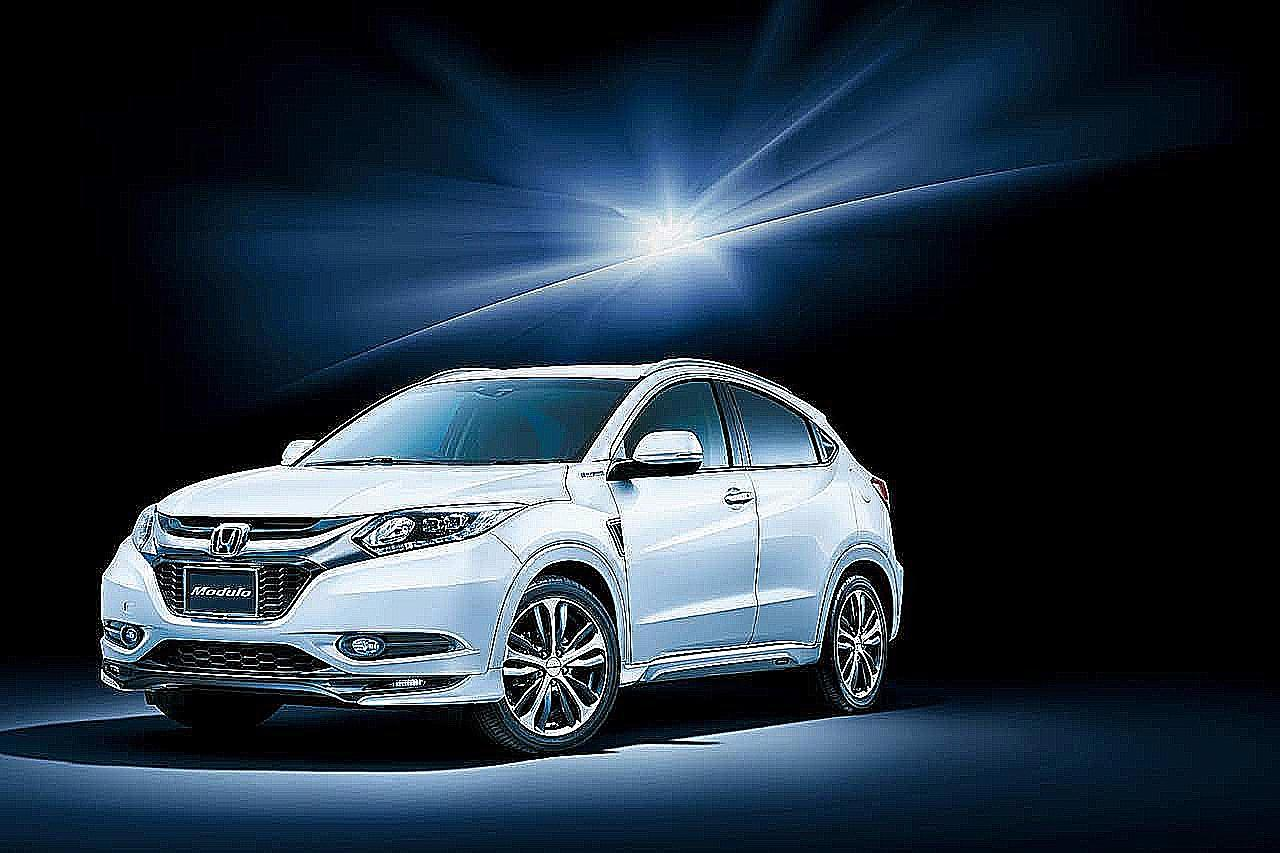Car hood: (149, 456, 572, 525)
Fender - -F-L-: (490, 455, 639, 692)
Fender - -R-L-: (843, 457, 895, 566)
Front bumper: (94, 540, 522, 720)
Headlight - -L-: (352, 489, 532, 565)
Headlight - -R-: (120, 489, 169, 560)
Passenger-s door - -F-L-: (616, 357, 761, 665)
Passenger-s door - -R-L-: (737, 370, 864, 656)
Rear bumper: (881, 533, 936, 654)
Rear light - -L-: (857, 467, 904, 515)
Side bumper - -L-: (612, 634, 832, 696)
Side mirror - -L-: (606, 422, 708, 491)
Side mirror - -R-: (264, 422, 334, 481)
